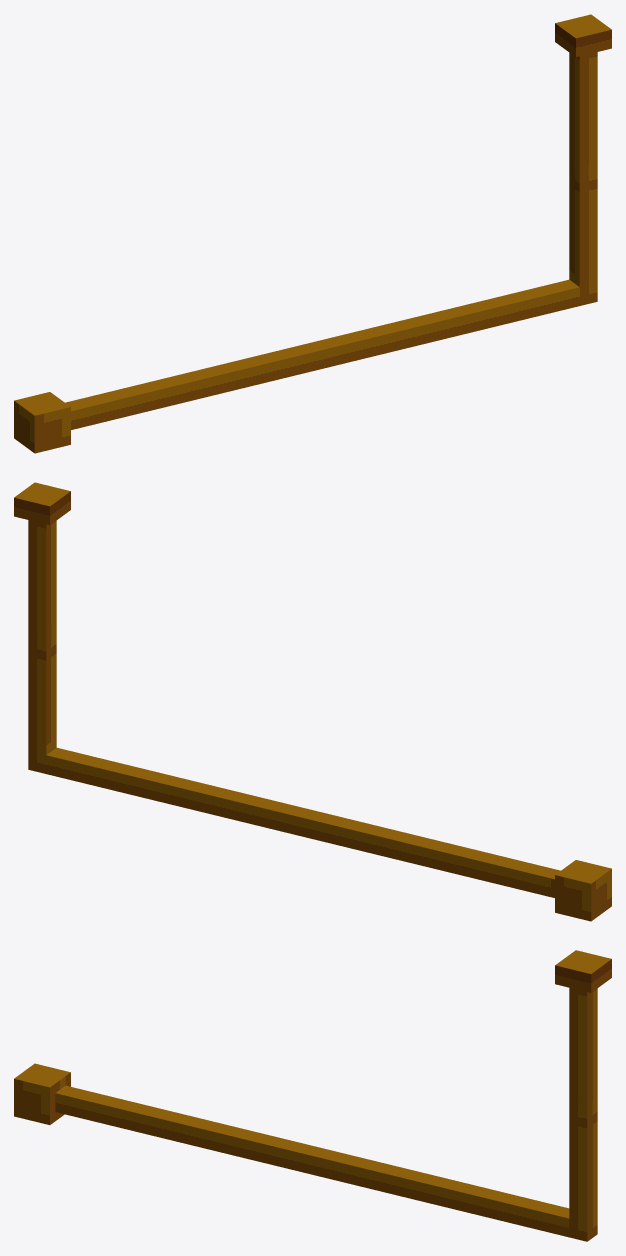
Rendered from orr_earth_branchao.fezao.glb.
3 renders of one model, top to bottom at view 1: azimuth 30°, elevation 25°; view 2: azimuth 150°, elevation 25°; view 3: azimuth 330°, elevation 25°, orthographic.
Visible parts, largest first — view 1: ORR_EARTH_BRANCHAO; view 2: ORR_EARTH_BRANCHAO; view 3: ORR_EARTH_BRANCHAO.
Part boxes in pixels (bbox=[...]): ORR_EARTH_BRANCHAO: bbox=[14, 14, 611, 453]; ORR_EARTH_BRANCHAO: bbox=[14, 482, 611, 921]; ORR_EARTH_BRANCHAO: bbox=[14, 950, 611, 1241].
Size of the model in its own units: 4 by 1.88 by 0.25.
1 material, 1 textured.
